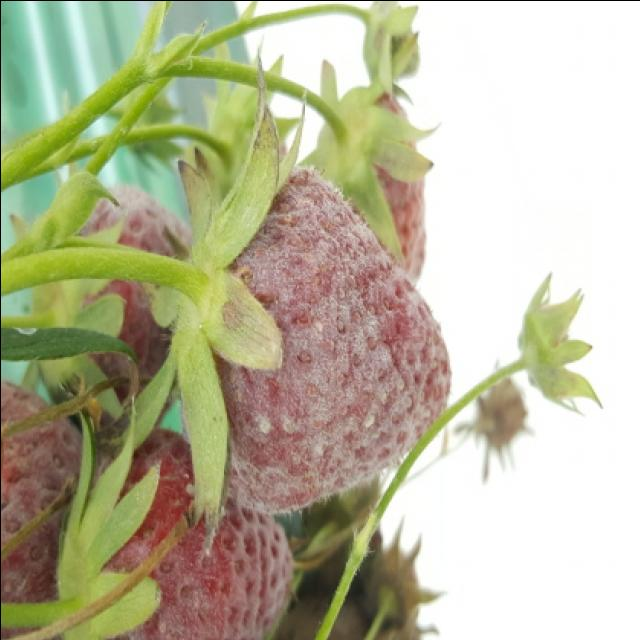Powdery Mildew Fruit: (178, 163, 454, 516), (61, 427, 295, 640), (30, 183, 190, 431), (0, 379, 100, 640)
